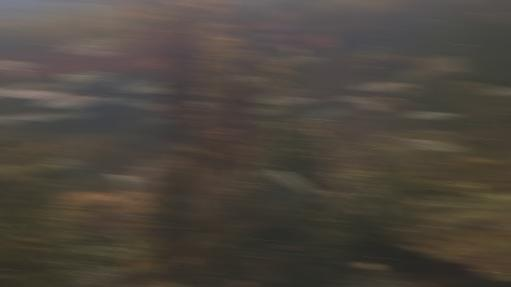Fish: (110, 159, 161, 192), (43, 158, 96, 185), (270, 170, 317, 194), (60, 36, 109, 53), (56, 95, 114, 109), (402, 138, 463, 151), (0, 81, 46, 96), (0, 60, 37, 78), (300, 33, 339, 50), (35, 95, 86, 107), (60, 71, 111, 83), (305, 107, 350, 120), (123, 80, 164, 94), (86, 38, 129, 50), (261, 20, 301, 32), (257, 32, 300, 42), (7, 92, 66, 99), (405, 112, 460, 119), (112, 75, 139, 89), (21, 113, 68, 121), (0, 114, 32, 125), (372, 82, 409, 91), (261, 42, 300, 50), (269, 9, 296, 20), (0, 60, 37, 68), (80, 50, 121, 57), (257, 92, 283, 103), (61, 110, 92, 119), (362, 101, 385, 112), (144, 57, 167, 68), (251, 107, 282, 115), (337, 96, 372, 103), (139, 103, 168, 111), (258, 93, 281, 103), (116, 98, 141, 106), (482, 88, 510, 95), (236, 75, 258, 83), (233, 75, 258, 82), (290, 97, 319, 103), (54, 83, 83, 89), (298, 56, 322, 63), (146, 86, 167, 93), (150, 117, 167, 124), (191, 101, 208, 107), (506, 124, 510, 128)
